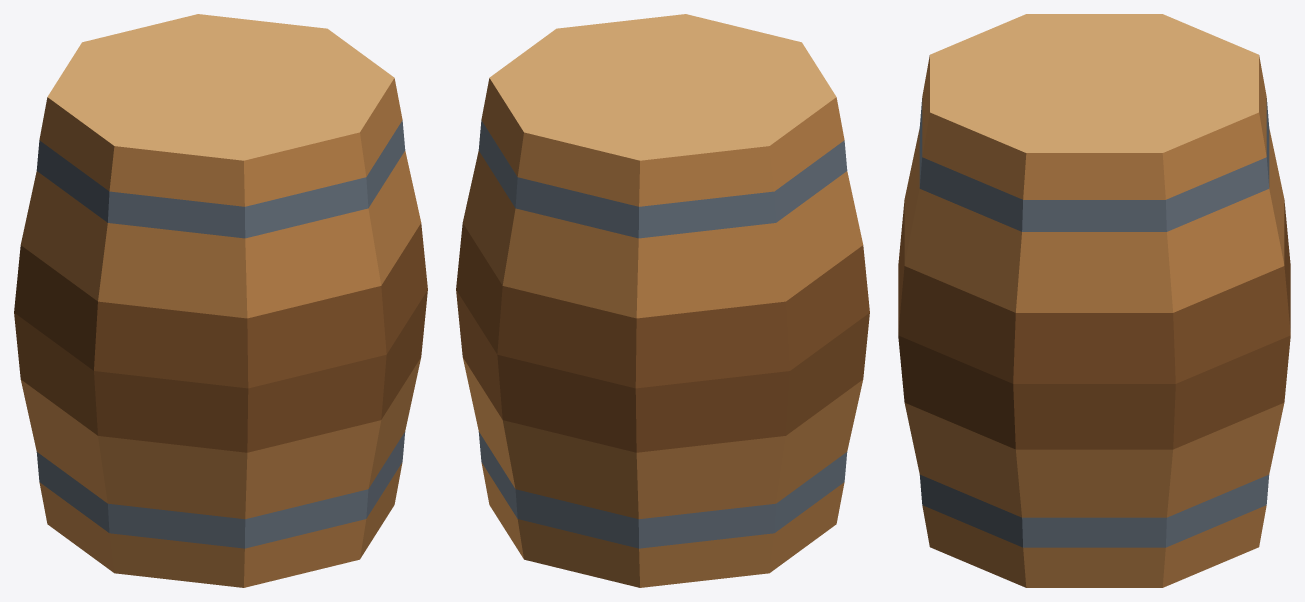
Rendered from barrel.fbx.
The picture shows the model from 3 angles, left to right: view 1: azimuth 30°, elevation 25°; view 2: azimuth 150°, elevation 25°; view 3: azimuth 270°, elevation 25°; orthographic projection.
Visible parts, largest first — view 1: barrel; view 2: barrel; view 3: barrel.
Boxes of the visible parts, bbox=[...] form: barrel: bbox=[14, 14, 427, 587]; barrel: bbox=[456, 14, 869, 587]; barrel: bbox=[898, 14, 1290, 587].
Bounding box in the file's own units: 286 × 350 × 286.
1 material, 1 textured.
